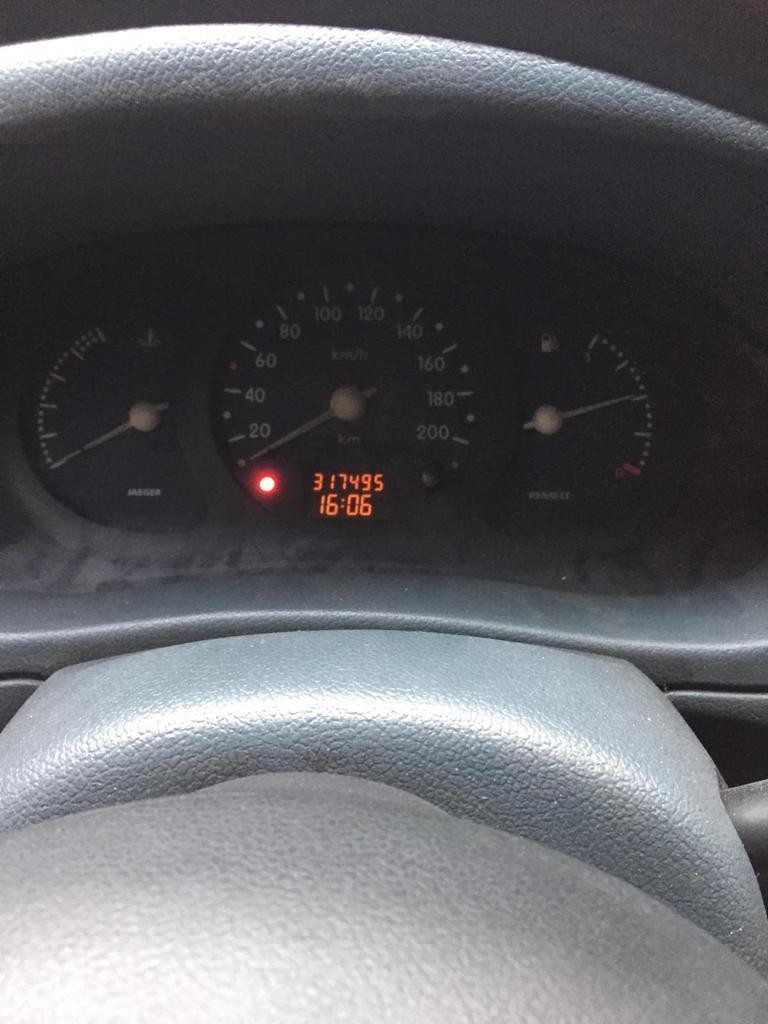0: (345, 493, 359, 516)
1: (328, 473, 336, 489), (318, 493, 324, 514)
3: (312, 472, 323, 490)
4: (348, 474, 359, 490)
5: (373, 472, 384, 491)
6: (359, 493, 372, 516), (325, 493, 338, 515)
7: (337, 472, 347, 490)
9: (360, 473, 371, 490)
X: (339, 497, 345, 509)
odometer: (294, 463, 400, 524)
